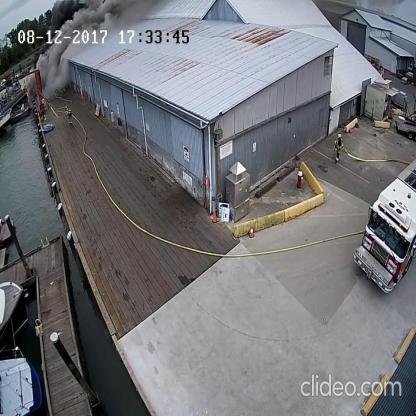fire: (23, 80, 30, 99)
